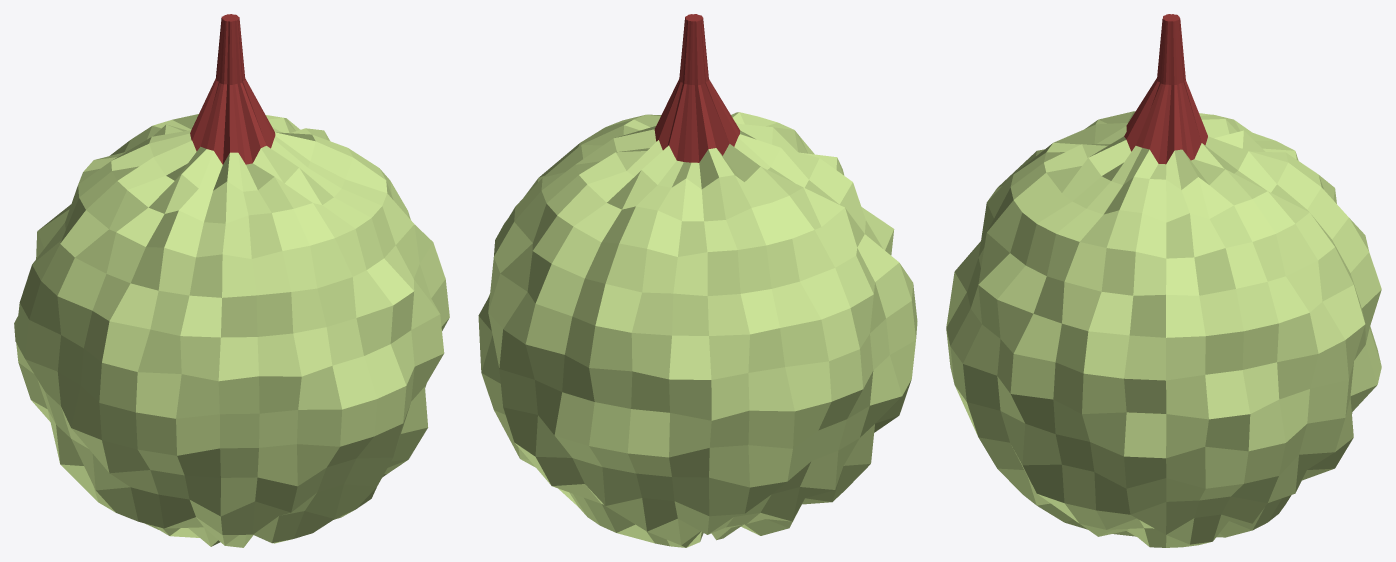
The model's file is Fruitful Berry.fbx.
3 renders of one model, left to right at view 1: azimuth 30°, elevation 25°; view 2: azimuth 150°, elevation 25°; view 3: azimuth 270°, elevation 25°, orthographic.
Parts seen in each view (by area): view 1: Sphere; view 2: Sphere; view 3: Sphere.
Part boxes in pixels (<box>): Sphere: <box>14,14,449,547</box>; Sphere: <box>478,14,917,547</box>; Sphere: <box>946,14,1381,547</box>.
Bounding box in the file's own units: 212 × 275 × 214.
